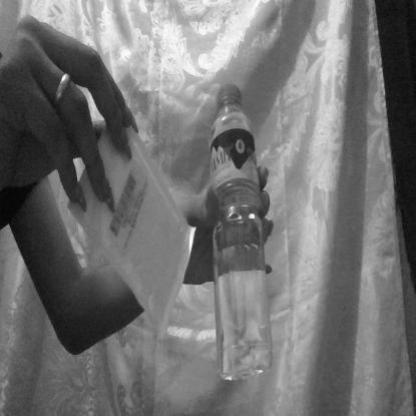Plastic Bottle: (199, 58, 294, 408)
